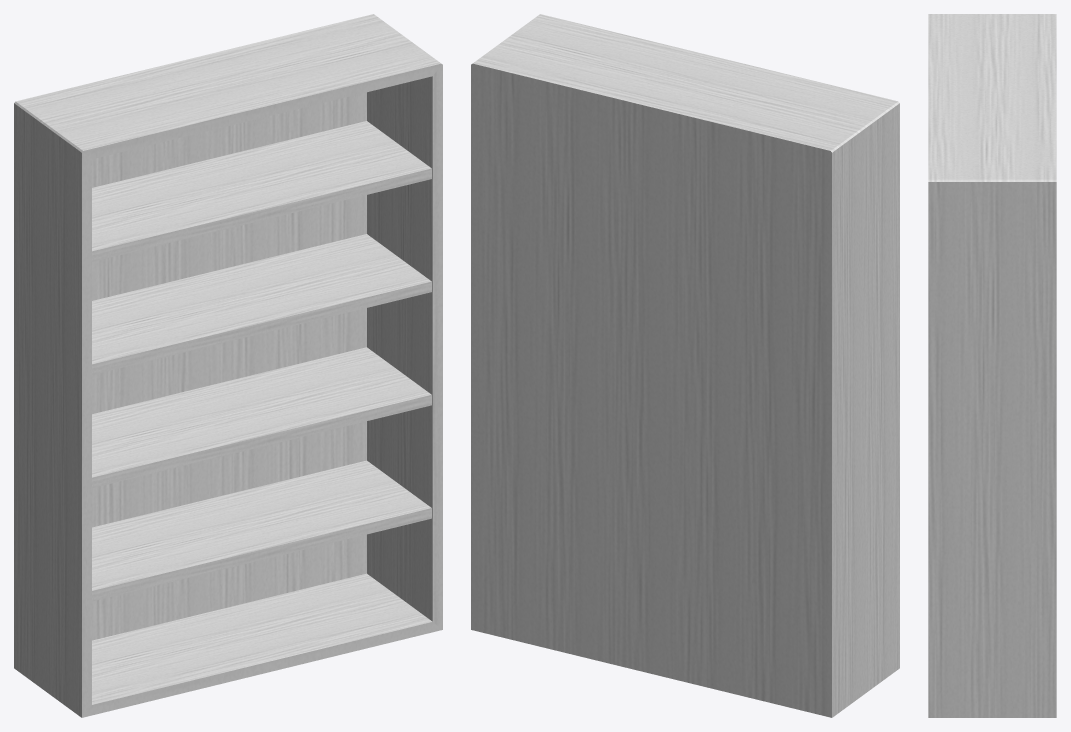
File: Bookshelf_A.FBX
3 renders of one model, left to right at view 1: azimuth 30°, elevation 25°; view 2: azimuth 150°, elevation 25°; view 3: azimuth 270°, elevation 25°, orthographic. The views are drawn at different scales.
Parts seen in each view (by area): view 1: Bookshelf; view 2: Bookshelf; view 3: Bookshelf.
Part boxes in pixels (x1,y1,x2,y2): Bookshelf: (14,14,442,717); Bookshelf: (471,14,899,717); Bookshelf: (928,14,1056,717).
Size of the model in its own units: 200 by 300 by 65.
